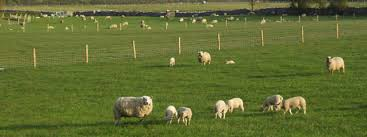sheep: (110, 94, 151, 124), (257, 91, 285, 114), (280, 96, 309, 118), (326, 54, 349, 78), (226, 95, 246, 114), (212, 98, 226, 124), (161, 105, 180, 124), (176, 106, 193, 127), (195, 48, 213, 64), (223, 57, 239, 67), (167, 54, 178, 68), (198, 18, 211, 27), (257, 16, 268, 26), (207, 19, 219, 27), (188, 16, 196, 28), (109, 22, 117, 32), (177, 18, 187, 25), (119, 21, 128, 27)
